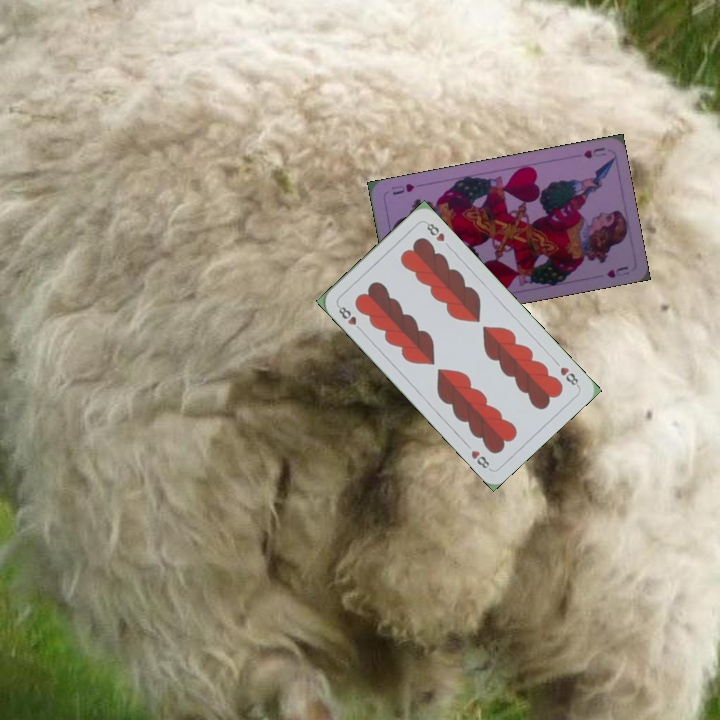H8: (334, 301, 365, 334), (556, 363, 582, 389)
HU: (579, 143, 609, 161)
